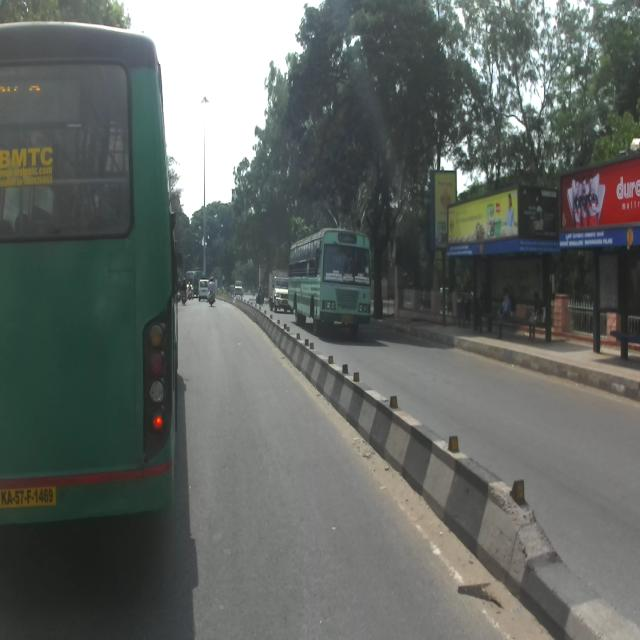bus ahead at: (0, 21, 181, 534)
